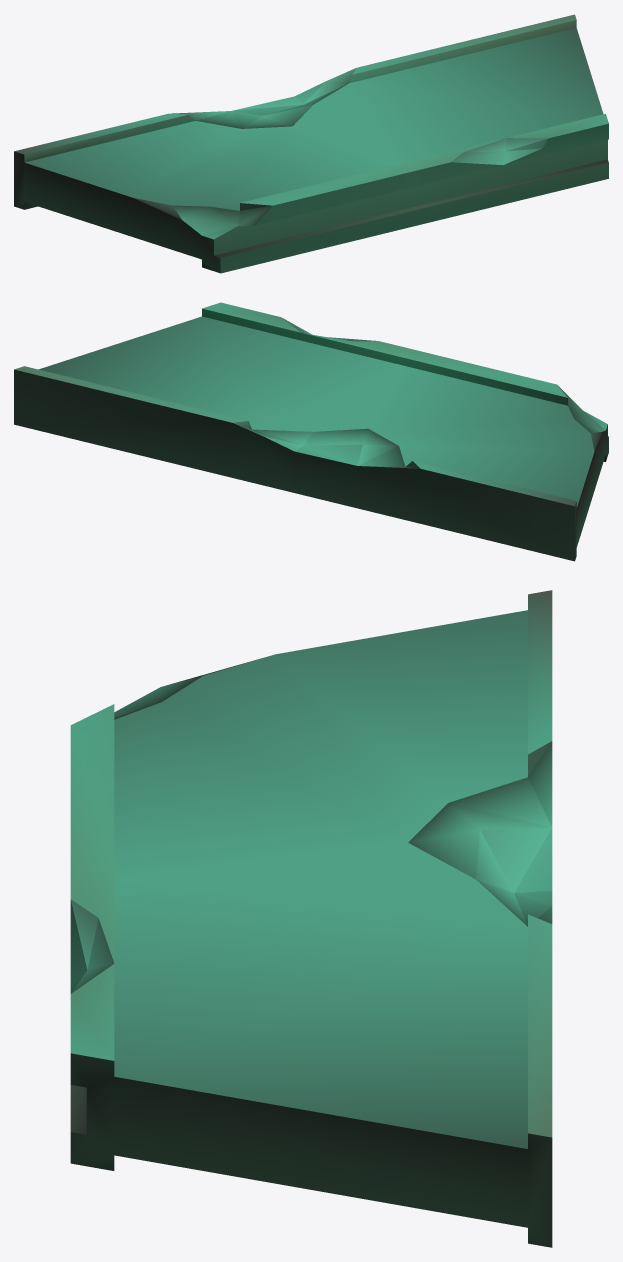
File: TowerInteriorPlatform.gltf
The picture shows the model from 3 angles, top to bottom: view 1: azimuth 30°, elevation 25°; view 2: azimuth 150°, elevation 25°; view 3: azimuth 270°, elevation 25°; orthographic projection. The views are drawn at different scales.
Visible parts, largest first — view 1: TowerInteriorPlatformMesh; view 2: TowerInteriorPlatformMesh; view 3: TowerInteriorPlatformMesh.
Part boxes in pixels (bbox=[...]): TowerInteriorPlatformMesh: bbox=[14, 14, 608, 273]; TowerInteriorPlatformMesh: bbox=[14, 302, 608, 561]; TowerInteriorPlatformMesh: bbox=[70, 590, 552, 1247].
Size of what is drawn, in the model's own units: 7.46 by 0.7 by 2.77.
